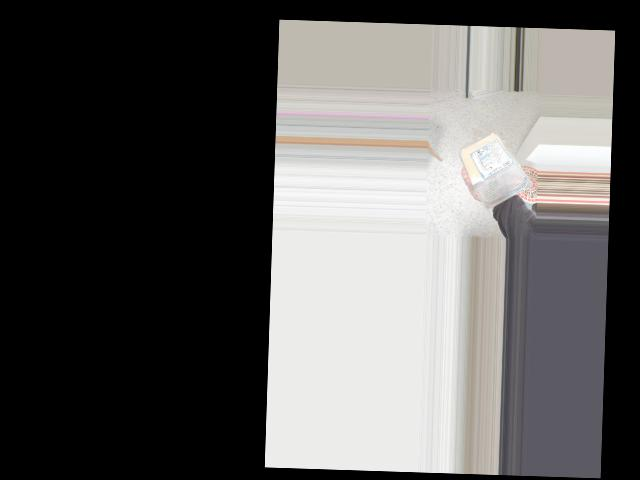cheese: (463, 129, 527, 202)
